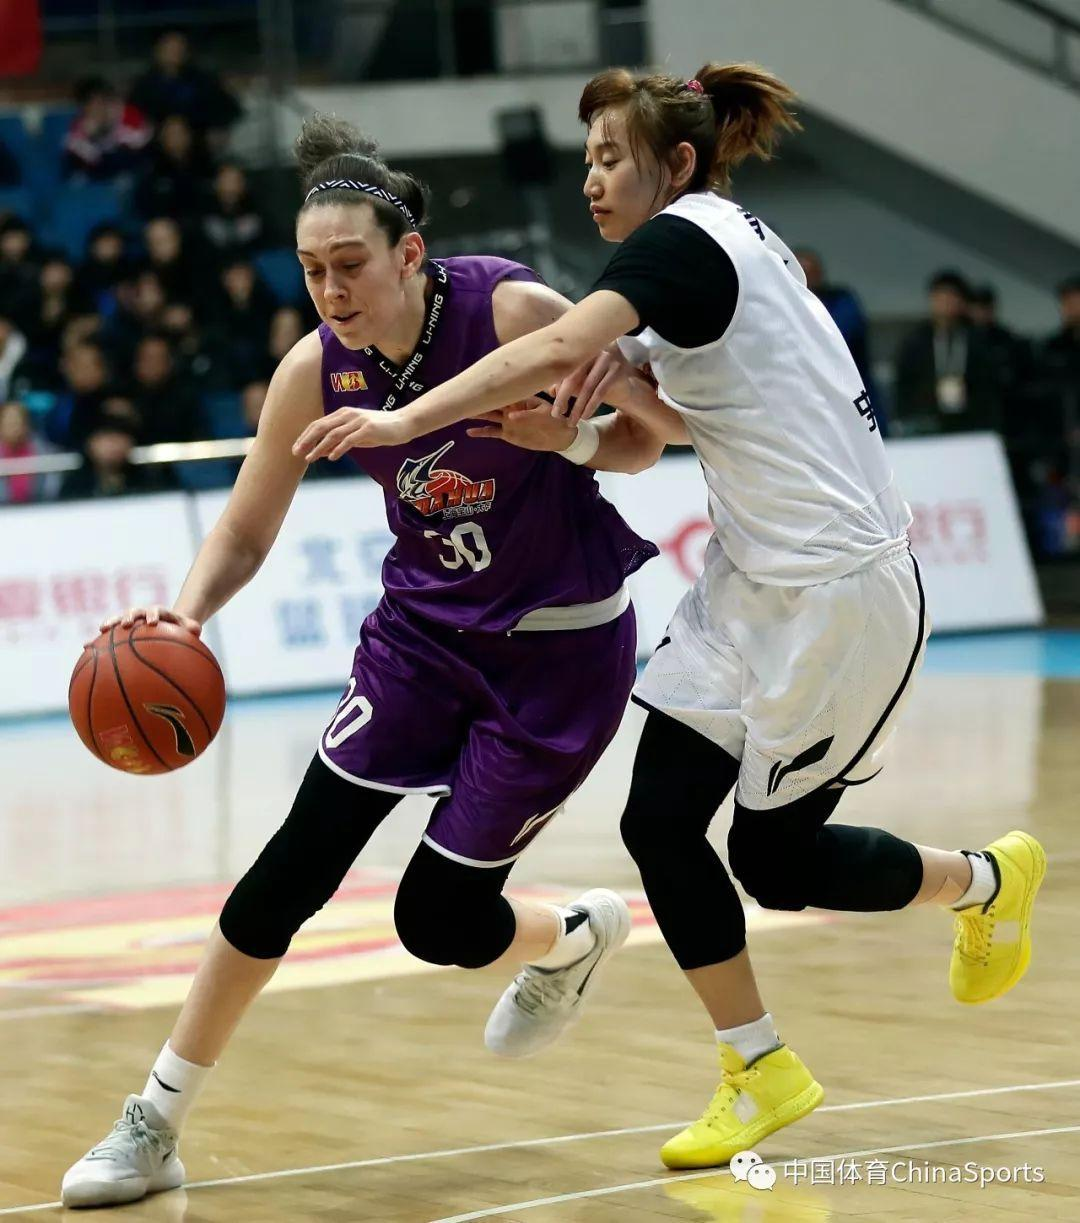ball: (69, 619, 228, 778)
